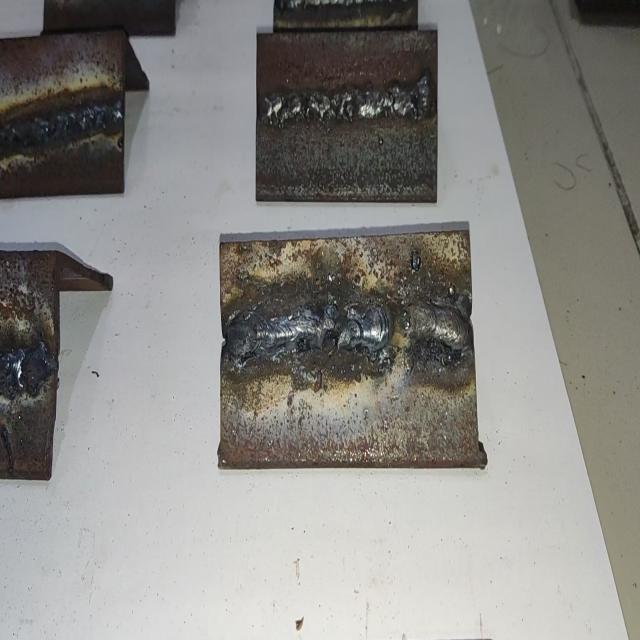Defect: (262, 78, 425, 122), (374, 291, 424, 368), (0, 342, 56, 399), (305, 296, 351, 361)
Welding Line: (227, 305, 470, 359), (258, 74, 436, 126), (0, 96, 123, 152)
Workpiece: (217, 225, 477, 467), (255, 27, 440, 204), (0, 35, 128, 198)
